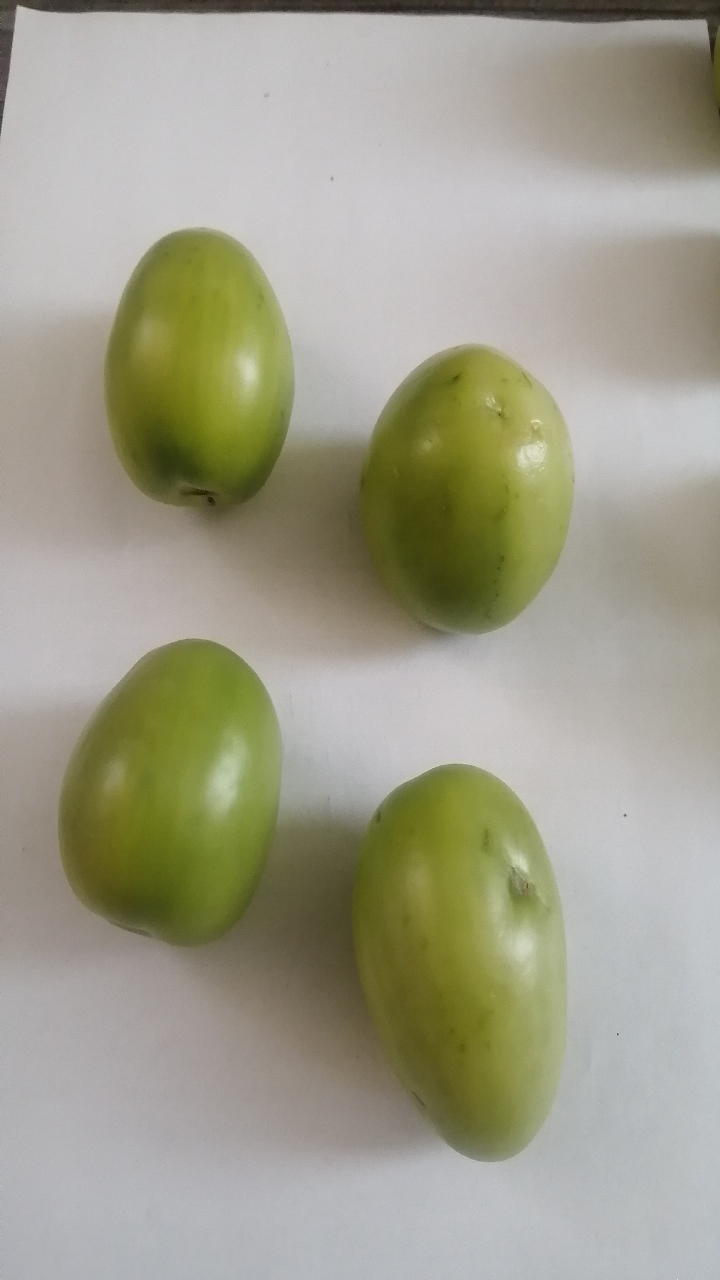tomateVerde: (338, 739, 569, 1177), (28, 614, 295, 968), (346, 323, 578, 645), (89, 197, 303, 532)
